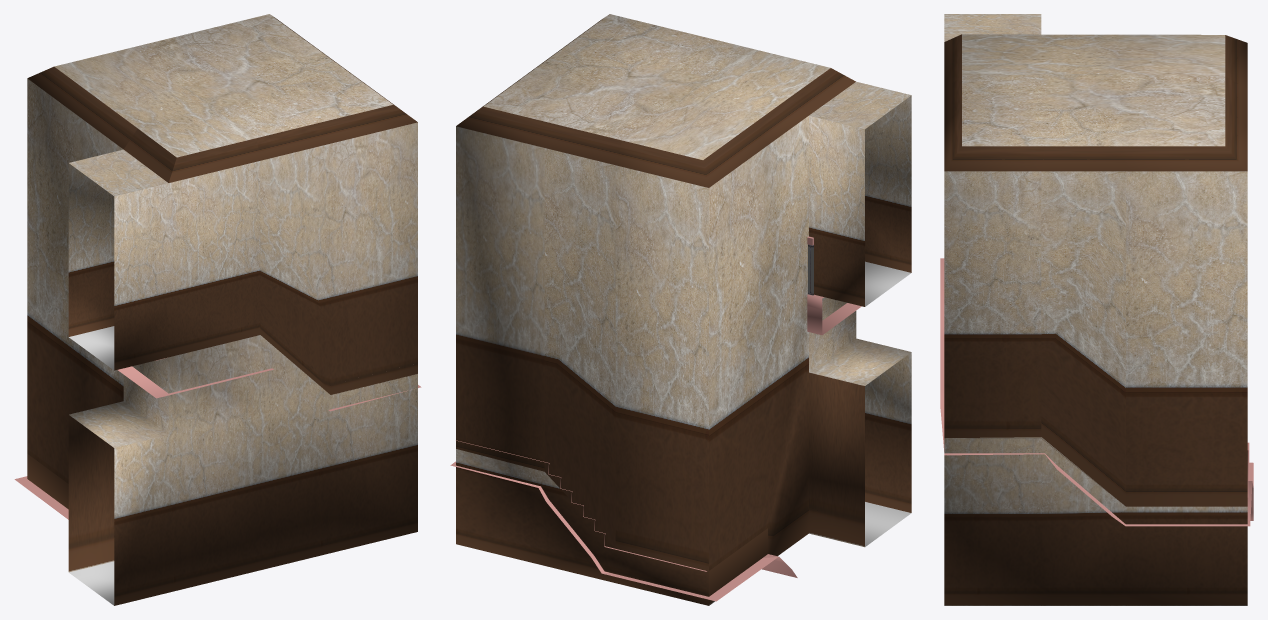
Rendered from Staircase_Servants.fbx.
The picture shows the model from 3 angles, left to right: view 1: azimuth 30°, elevation 25°; view 2: azimuth 150°, elevation 25°; view 3: azimuth 270°, elevation 25°; orthographic projection. The views are drawn at different scales.
Parts seen in each view (by area): view 1: Staircase_WindingWalls, Staircase_Winding; view 2: Staircase_WindingWalls, Staircase_Winding; view 3: Staircase_WindingWalls, Staircase_Winding.
Boxes of the visible parts, bbox=[...] form: Staircase_WindingWalls: bbox=[27, 14, 417, 605]; Staircase_Winding: bbox=[14, 357, 421, 519]; Staircase_WindingWalls: bbox=[456, 14, 911, 605]; Staircase_Winding: bbox=[450, 236, 861, 601]; Staircase_WindingWalls: bbox=[944, 14, 1247, 605]; Staircase_Winding: bbox=[940, 258, 1253, 526].
Size of what is drawn, in the model's own units: 691 by 954 by 566.
